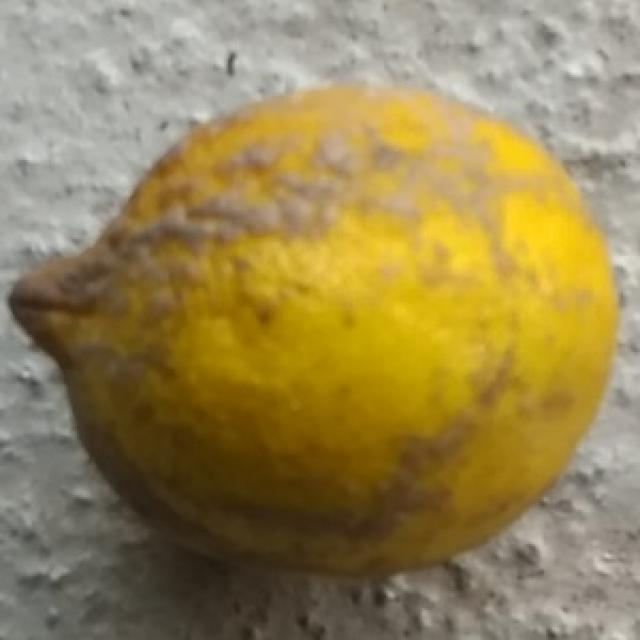overripe: (9, 80, 629, 583)
